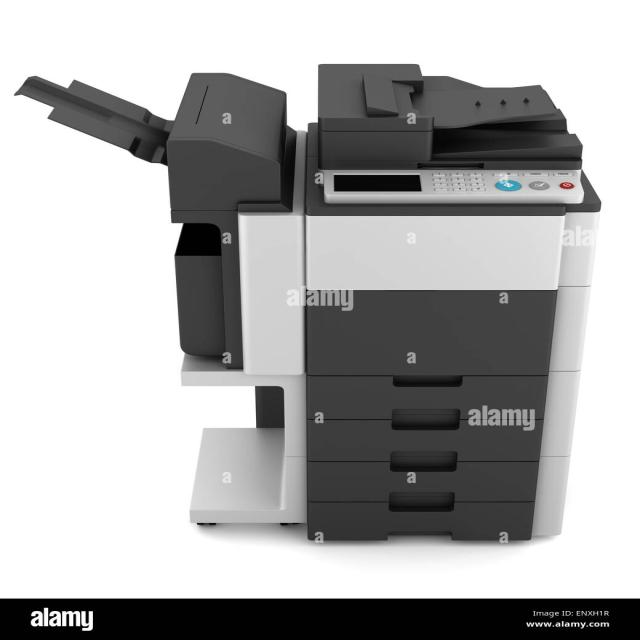printer: (13, 63, 602, 544)
